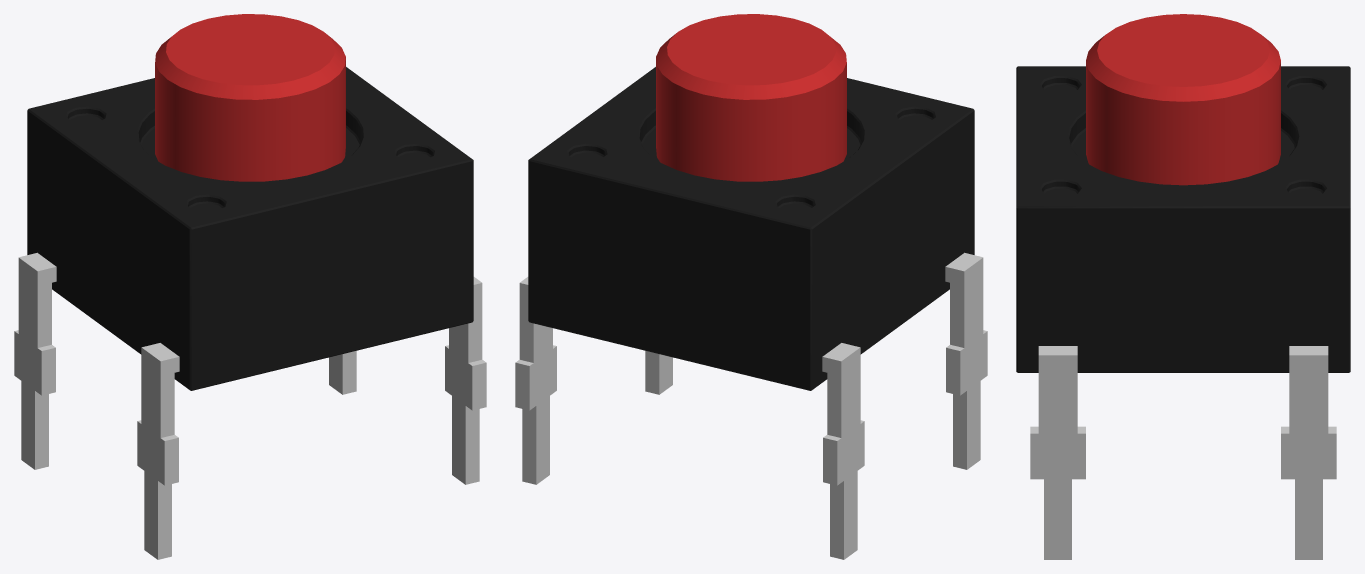
The model's file is push_button.glb.
3 renders of one model, left to right at view 1: azimuth 30°, elevation 25°; view 2: azimuth 150°, elevation 25°; view 3: azimuth 270°, elevation 25°, orthographic.
Parts seen in each view (by area): view 1: Button_Body, MOVE_Cap, Button_Legs; view 2: Button_Body, MOVE_Cap, Button_Legs; view 3: Button_Body, MOVE_Cap, Button_Legs.
Boxes of the visible parts, x1=… form: Button_Body: x1=27, y1=67, x2=473, y2=390; MOVE_Cap: x1=155, y1=14, x2=345, y2=181; Button_Legs: x1=14, y1=252, x2=486, y2=559; Button_Body: x1=528, y1=67, x2=974, y2=390; MOVE_Cap: x1=656, y1=14, x2=846, y2=181; Button_Legs: x1=515, y1=252, x2=987, y2=559; Button_Body: x1=1016, y1=66, x2=1350, y2=372; MOVE_Cap: x1=1086, y1=14, x2=1280, y2=185; Button_Legs: x1=1030, y1=346, x2=1336, y2=559.
Size of the model in its own units: 0.0068 by 0.0085 by 0.006.
